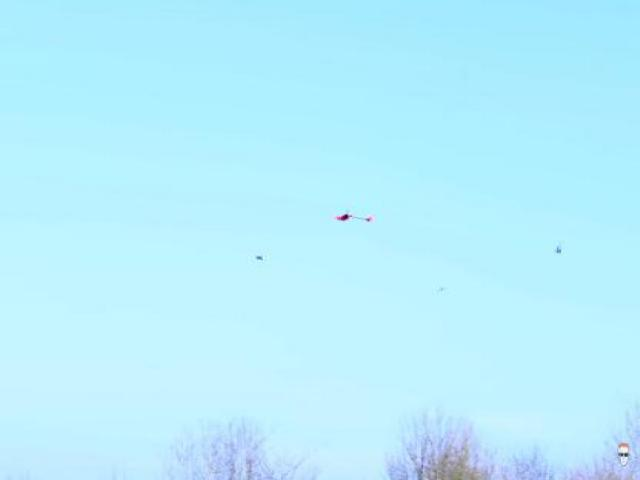uav: (326, 201, 380, 234)
